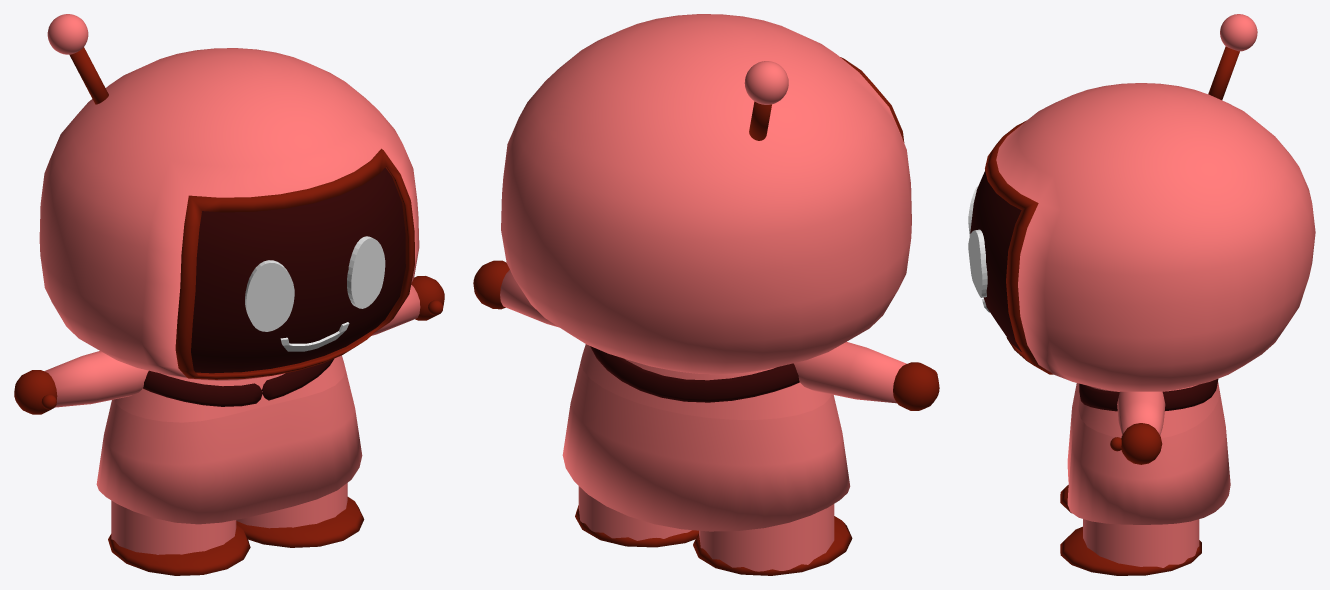
The model's file is 3D_modeling_red.fbx.
The picture shows the model from 3 angles, left to right: view 1: azimuth 30°, elevation 25°; view 2: azimuth 150°, elevation 25°; view 3: azimuth 270°, elevation 25°; orthographic projection. The views are drawn at different scales.
Parts seen in each view (by area): view 1: head, body, degital_face, degital_face_frame, leg, foot, eye, arm, color, hand, antenna, mouth; view 2: head, body, leg, arm, color, hand, foot, antenna; view 3: head, body, leg, degital_face, degital_face_frame, foot, antenna, color, arm, hand, eye.
Boxes of the visible parts, x1,y1,x2,y2 form: head: (39,48,419,380); body: (96,355,362,524); degital_face: (191,167,405,373); degital_face_frame: (175,148,414,379); leg: (111,483,347,554); foot: (108,497,364,575); eye: (245,236,385,331); arm: (44,285,420,407); color: (143,359,333,406); hand: (14,276,444,414); antenna: (47,14,108,104); mouth: (280,322,349,351); head: (501,14,911,374); body: (562,344,850,531); leg: (578,486,834,571); arm: (500,270,906,403); color: (590,346,799,402); hand: (473,260,939,410); foot: (575,505,852,575); antenna: (744,61,788,140); head: (996,83,1315,391); body: (1067,382,1230,524); leg: (1083,519,1199,567); degital_face: (970,170,1021,351); degital_face_frame: (985,120,1053,374); foot: (1060,485,1201,575); antenna: (1208,14,1257,99); color: (1079,379,1218,411); arm: (1117,391,1165,435); hand: (1110,423,1162,464); eye: (968,186,987,297).
Bounding box in the file's own units: 415 × 464 × 318.
